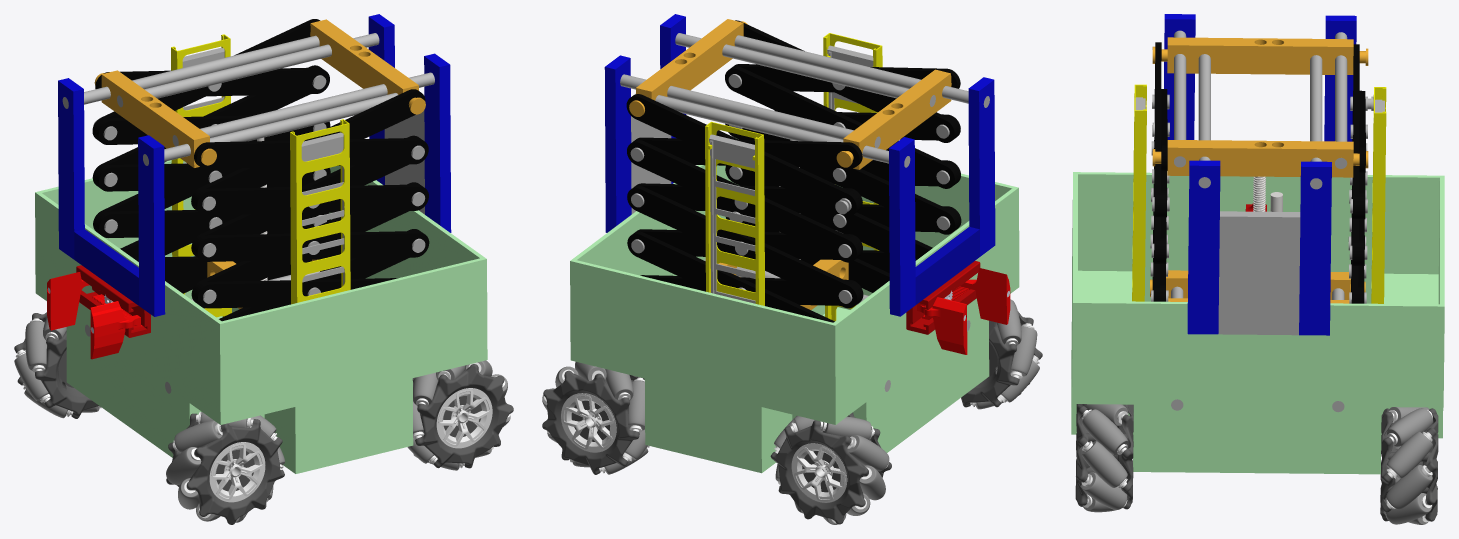
File: AGV_I1_PF.glb
The picture shows the model from 3 angles, left to right: view 1: azimuth 30°, elevation 25°; view 2: azimuth 150°, elevation 25°; view 3: azimuth 270°, elevation 25°; orthographic projection.
Parts seen in each view (by area): view 1: CHASSIS-1, slider_outer-2023-3, LINK-9, LINK-15, GRIPPER FIXER LINK-2, Половина колеса Mecanum_Верхняя половина - левая.STEP-1, Половина колеса Mecanum_Верхняя половина - правая.STEP-1, GRIPPER FIXER LINK-1, LINK-22, GRIPPER FIXER LINK-3, FIXING LINK-5, FIXING LINK-4 (+35 smaller); view 2: CHASSIS-1, LINK-14, slider_outer-2023-2, LINK-17, GRIPPER FIXER LINK-1, Половина колеса Mecanum_Верхняя половина - правая.STEP-1, Половина колеса Mecanum_Верхняя половина - левая.STEP-1, LINK-20, GRIPPER FIXER LINK-2, GRIPPER FIXER LINK-4, FIXING LINK-5, LINK-16 (+38 smaller); view 3: CHASSIS-1, COUNTER WEIGHT-1, FIXING LINK-5, FIXING LINK-4, GRIPPER FIXER LINK-3, GRIPPER FIXER LINK-4, slider_outer-2023-2, slider_outer-2023-3, GRIPPER FIXER LINK-2, GRIPPER FIXER LINK-1, SHAFT-4, SHAFT-3 (+20 smaller).
Part boxes in pixels (left/top/right/bottom): CHASSIS-1: left=35, top=160, right=487, bottom=473; slider_outer-2023-3: left=290, top=119, right=350, bottom=304; LINK-9: left=194, top=231, right=429, bottom=261; LINK-15: left=194, top=184, right=428, bottom=215; GRIPPER FIXER LINK-2: left=138, top=135, right=165, bottom=316; Половина колеса Mecanum_Верхняя половина - левая.STEP-1: left=415, top=364, right=513, bottom=468; Половина колеса Mecanum_Верхняя половина - правая.STEP-1: left=186, top=419, right=284, bottom=524; GRIPPER FIXER LINK-1: left=58, top=78, right=84, bottom=259; LINK-22: left=194, top=138, right=428, bottom=168; GRIPPER FIXER LINK-3: left=424, top=53, right=451, bottom=232; FIXING LINK-5: left=94, top=70, right=216, bottom=167; FIXING LINK-4: left=310, top=19, right=425, bottom=114; CHASSIS-1: left=570, top=138, right=1019, bottom=473; LINK-14: left=627, top=185, right=860, bottom=308; slider_outer-2023-2: left=705, top=121, right=764, bottom=305; LINK-17: left=627, top=140, right=859, bottom=262; GRIPPER FIXER LINK-1: left=889, top=137, right=915, bottom=316; Половина колеса Mecanum_Верхняя половина - правая.STEP-1: left=542, top=370, right=639, bottom=474; Половина колеса Mecanum_Верхняя половина - левая.STEP-1: left=770, top=420, right=868, bottom=524; LINK-20: left=626, top=94, right=859, bottom=216; GRIPPER FIXER LINK-2: left=968, top=77, right=995, bottom=256; GRIPPER FIXER LINK-4: left=604, top=55, right=631, bottom=232; FIXING LINK-5: left=836, top=69, right=951, bottom=169; LINK-16: left=725, top=66, right=957, bottom=188; CHASSIS-1: left=1071, top=172, right=1444, bottom=474; COUNTER WEIGHT-1: left=1218, top=211, right=1300, bottom=335; FIXING LINK-5: left=1152, top=37, right=1368, bottom=74; FIXING LINK-4: left=1152, top=140, right=1368, bottom=177; GRIPPER FIXER LINK-3: left=1187, top=160, right=1220, bottom=334; GRIPPER FIXER LINK-4: left=1299, top=161, right=1331, bottom=335; slider_outer-2023-2: left=1371, top=87, right=1386, bottom=303; slider_outer-2023-3: left=1132, top=84, right=1146, bottom=301; GRIPPER FIXER LINK-2: left=1164, top=14, right=1195, bottom=139; GRIPPER FIXER LINK-1: left=1324, top=15, right=1356, bottom=141; SHAFT-4: left=1174, top=30, right=1186, bottom=167; SHAFT-3: left=1335, top=32, right=1347, bottom=168.
Bounding box in the file's own units: 0.3408 × 0.3297 × 0.3016.
